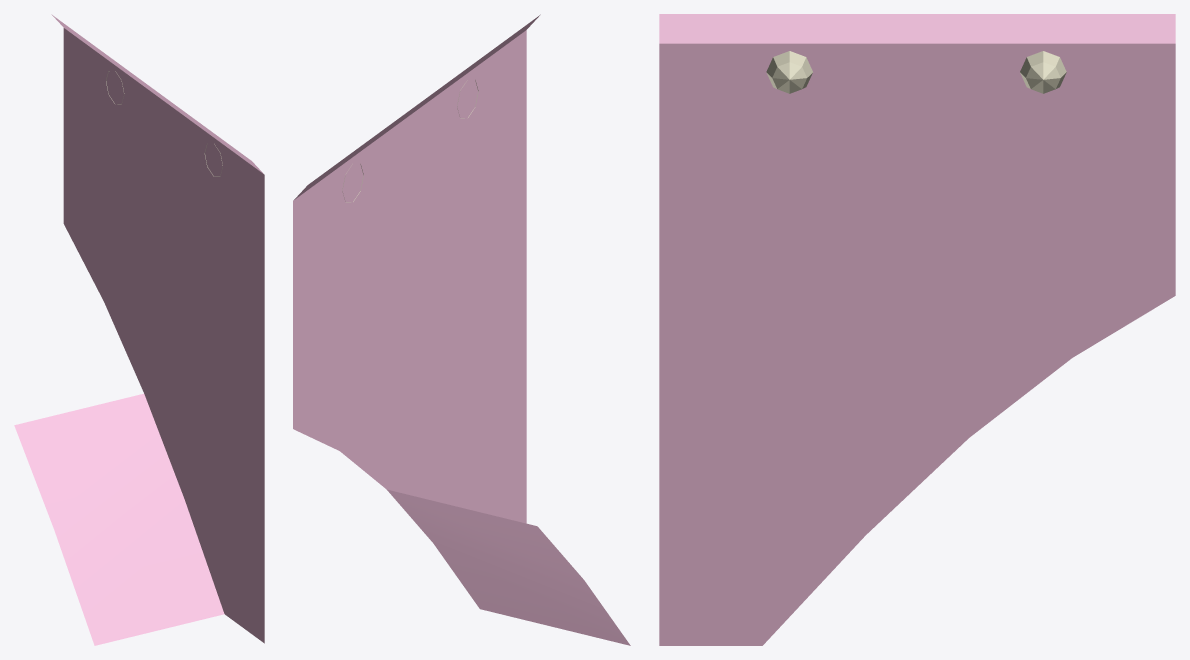
3 renders of one model, left to right at view 1: azimuth 30°, elevation 25°; view 2: azimuth 150°, elevation 25°; view 3: azimuth 270°, elevation 25°, orthographic. The views are drawn at different scales.
Visible parts, largest first — view 1: Object01; view 2: Object01; view 3: Object01.
Part boxes in pixels (x1,y1,x2,y2): Object01: (14, 14, 264, 645); Object01: (293, 14, 630, 645); Object01: (659, 14, 1175, 645).
Size of the model in its own units: 245 by 800 by 600.
